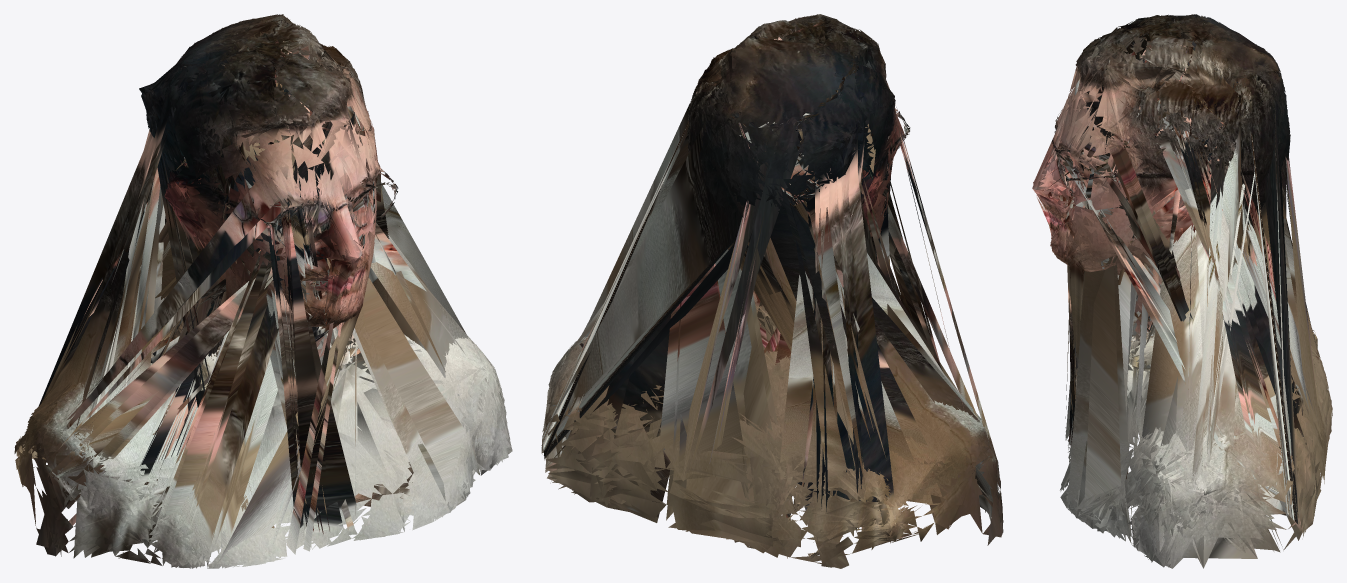
Rendered from cazzarola.glb.
The picture shows the model from 3 angles, left to right: view 1: azimuth 30°, elevation 25°; view 2: azimuth 150°, elevation 25°; view 3: azimuth 270°, elevation 25°; orthographic projection. The views are drawn at different scales.
Visible parts, largest first — view 1: Mesh_0; view 2: Mesh_0; view 3: Mesh_0.
Boxes of the visible parts, bbox=[...] form: Mesh_0: bbox=[14, 14, 512, 568]; Mesh_0: bbox=[541, 14, 1003, 568]; Mesh_0: bbox=[1032, 14, 1332, 568].
Size of the model in its own units: 0.4711 by 0.4618 by 0.2898.
1 material, 1 textured.
